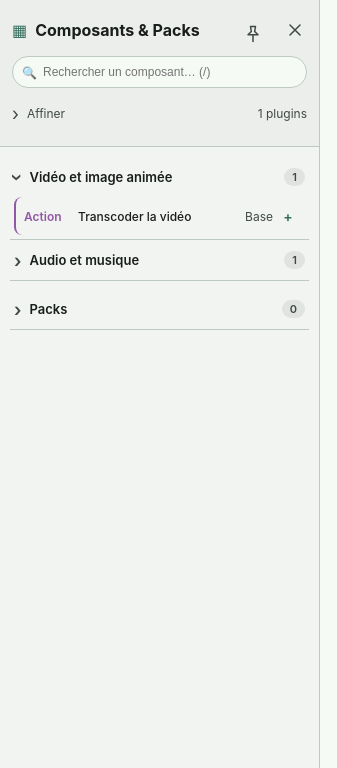
Test: FlowPaletteDockComponent › renders components and filters by search input
In the search field with class "search-input": (160, 72) [12, 56, 307, 88], type "audio"
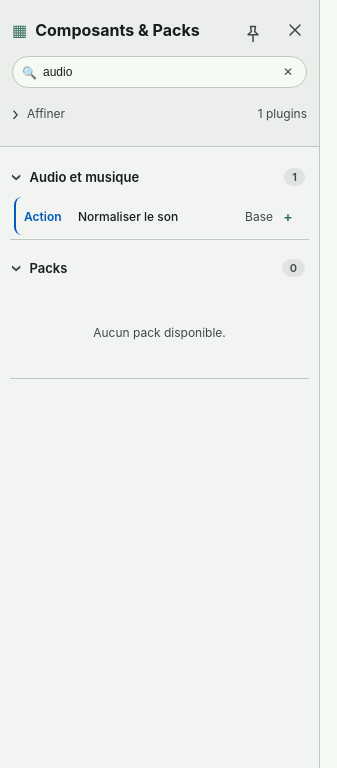
Expected: the number of buttons with class "component-card" is 1, [14, 197, 305, 235]
Now the button with class "component-card" shows "Normaliser le son", box [14, 197, 305, 235]
